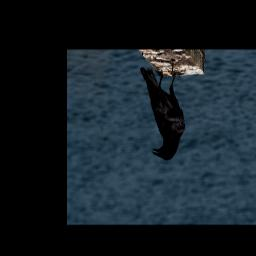Crow: (140, 65, 185, 161)
